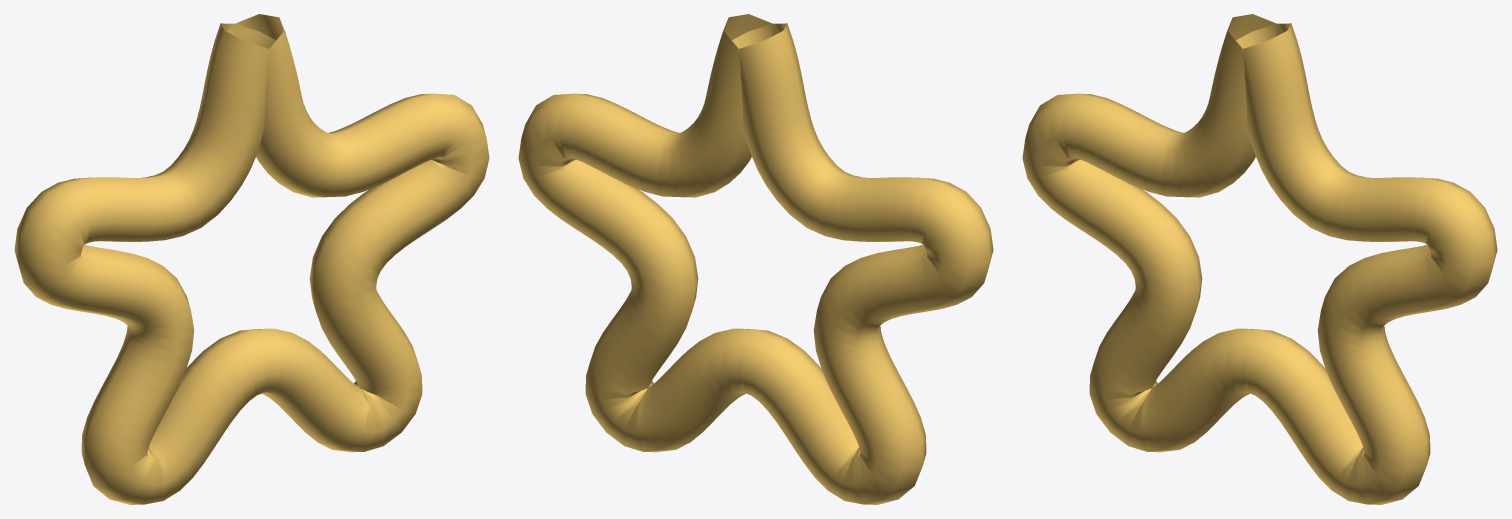
Rendered from word-star.glb.
3 renders of one model, left to right at view 1: azimuth 30°, elevation 25°; view 2: azimuth 150°, elevation 25°; view 3: azimuth 330°, elevation 25°, orthographic.
Visible parts, largest first — view 1: star outline; view 2: star outline; view 3: star outline.
Part boxes in pixels (box(x1,y1,x2,y2)): star outline: box(14, 14, 489, 504); star outline: box(518, 14, 993, 504); star outline: box(1022, 14, 1497, 504).
Size of the model in its own units: 1.1 by 1.02 by 0.14.
